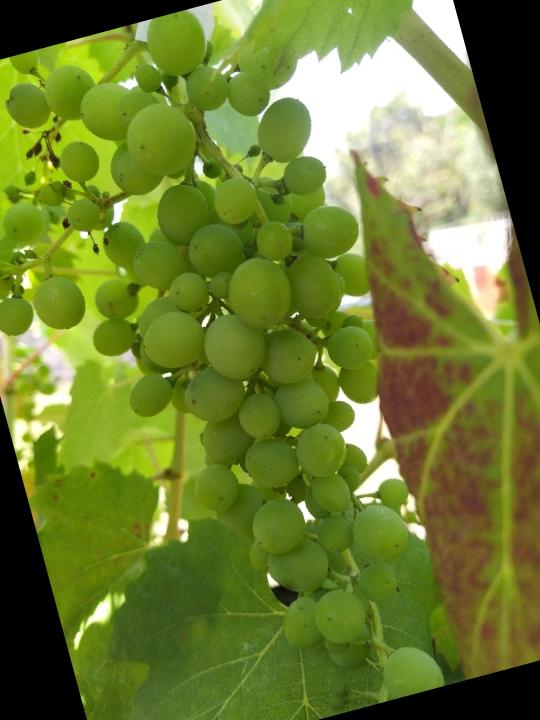grape: (0, 0, 477, 720)
